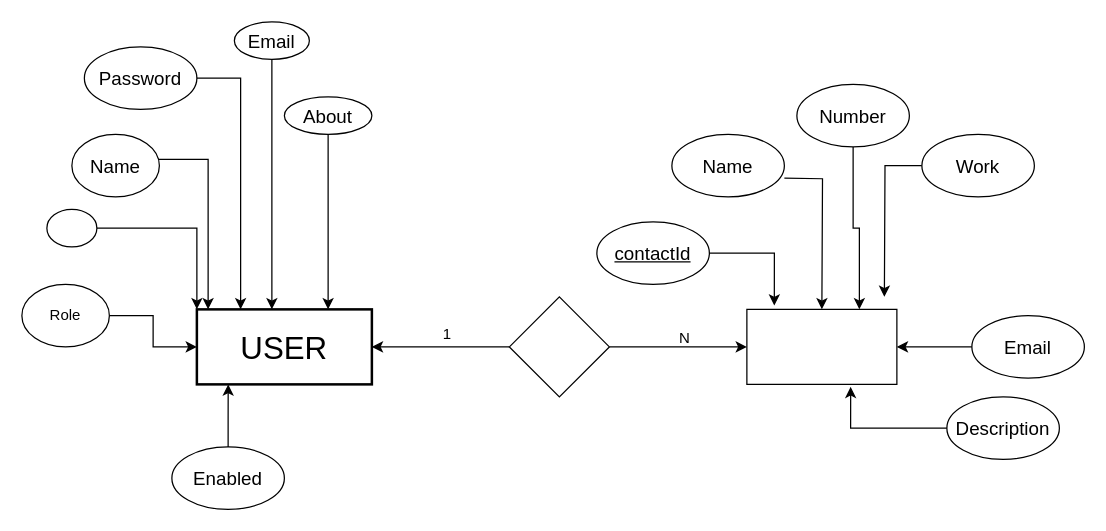
Some shapes in this 1106 by 531 pixel diagram are drawn without their labels. The shapes that lost their labels are listed below. From the top down, each one's box as (x1, y1, x2, y2) in pixels, then its label:
(46, 208, 97, 247): ID
(508, 296, 609, 397): has
(746, 308, 897, 384): CONTACTS
